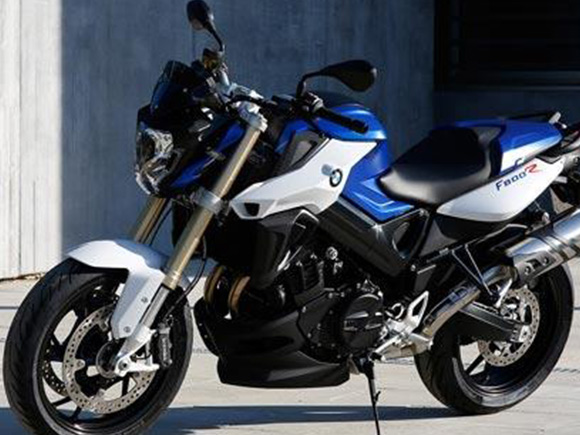motorcycle: (8, 54, 577, 429)
